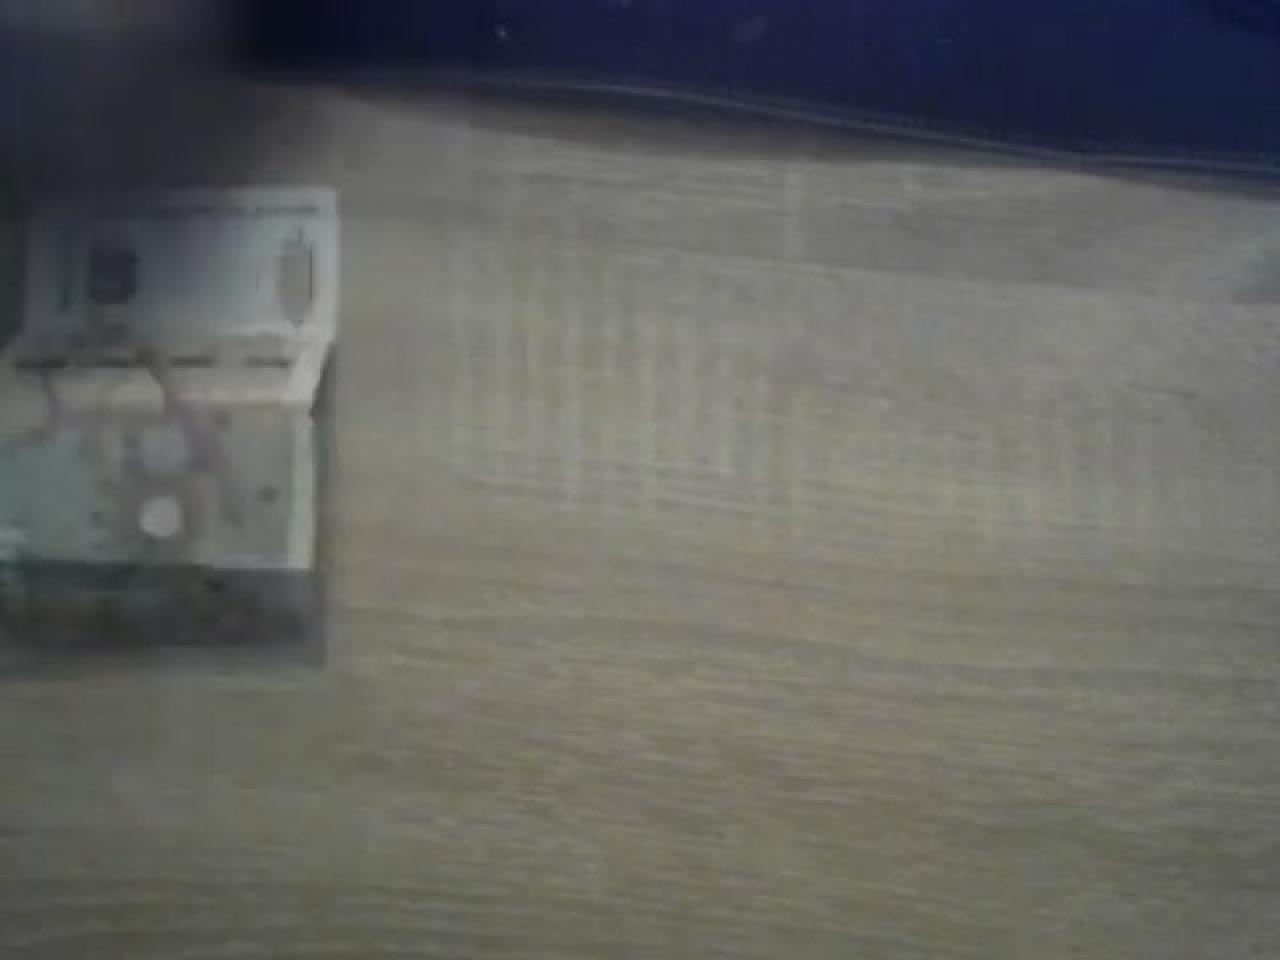10leva: (0, 187, 342, 664)
